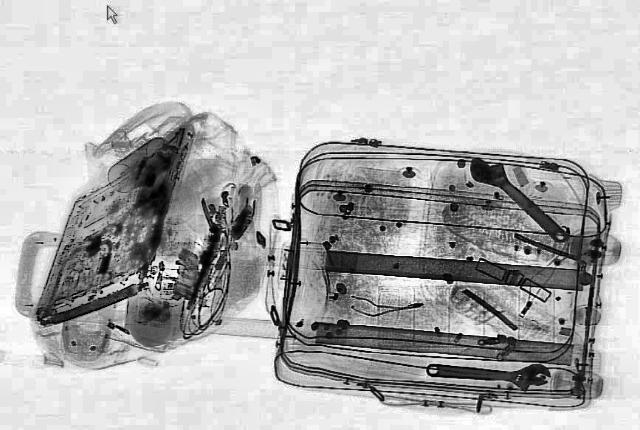Wrench: (455, 151, 581, 247), (420, 355, 552, 393)
